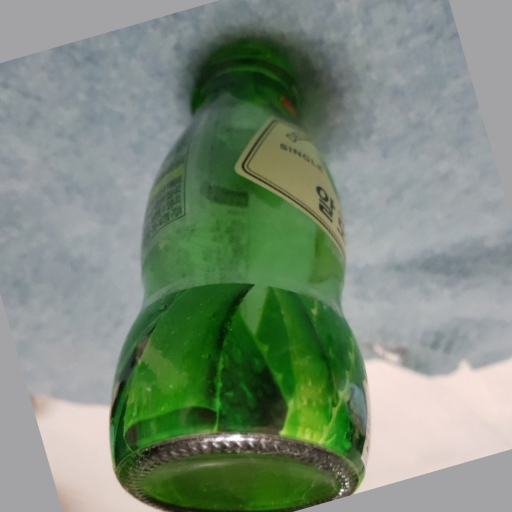Glass_4: (111, 34, 376, 511)
